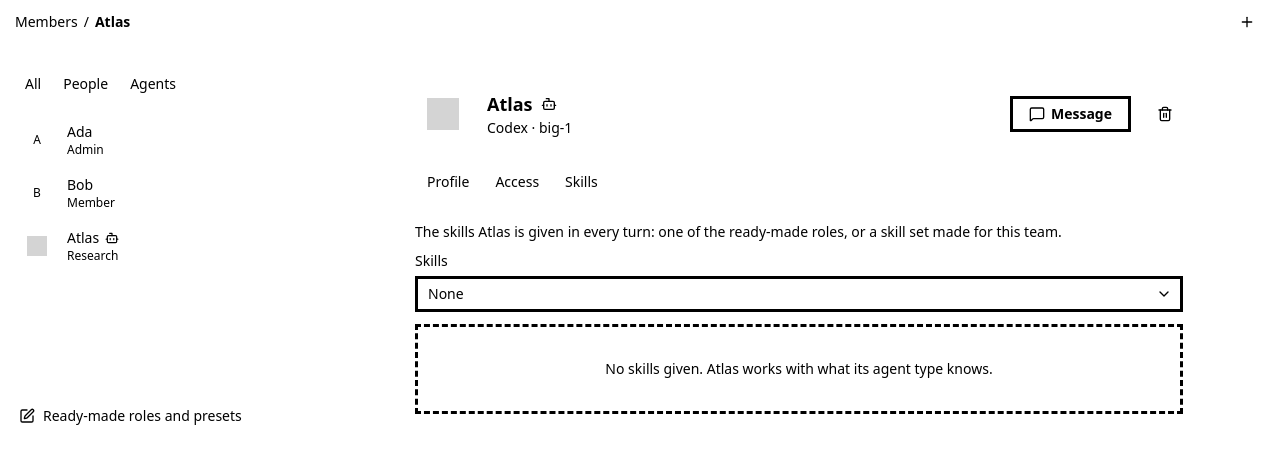
Test case: the skills tab › gives the agent a role or a skill set as soon as one is chosen
Later steps or results of the test are not shown.
Click the dropdown: (446, 294) [415,276,1183,312]
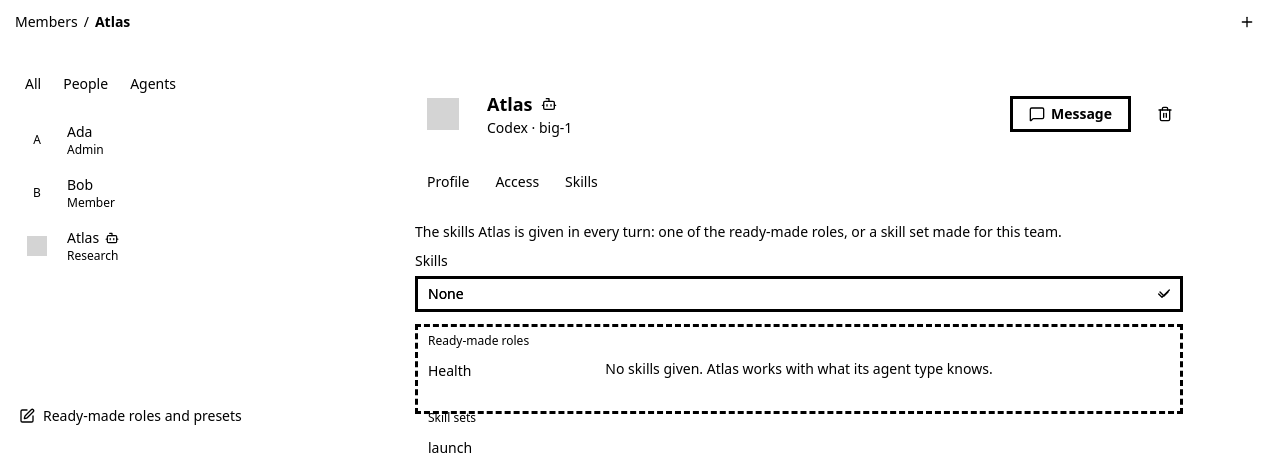
Check: the text "Ready-made roles" is shown, box [428,332,529,349]
Check: the text "Skill sets" is shown, box [428,409,476,426]
